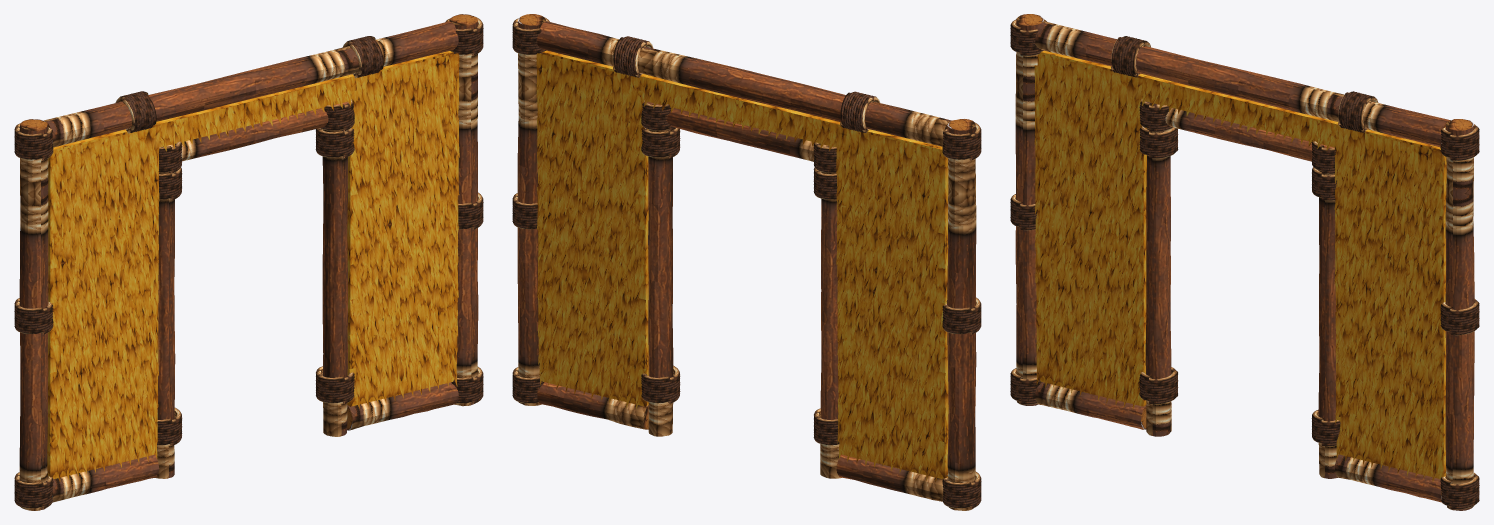
Rendered from Haus_Wand_mit_Tuer.glb.
3 renders of one model, left to right at view 1: azimuth 30°, elevation 25°; view 2: azimuth 150°, elevation 25°; view 3: azimuth 330°, elevation 25°, orthographic.
Visible parts, largest first — view 1: wand_tuer; view 2: wand_tuer; view 3: wand_tuer.
Boxes of the visible parts, left/top/right/bottom form: wand_tuer: left=14, top=14, right=483, bottom=510; wand_tuer: left=512, top=14, right=981, bottom=510; wand_tuer: left=1010, top=14, right=1479, bottom=510.
Size of the model in its own units: 3.06 by 2.43 by 0.2876.
4 materials, 4 textured.
